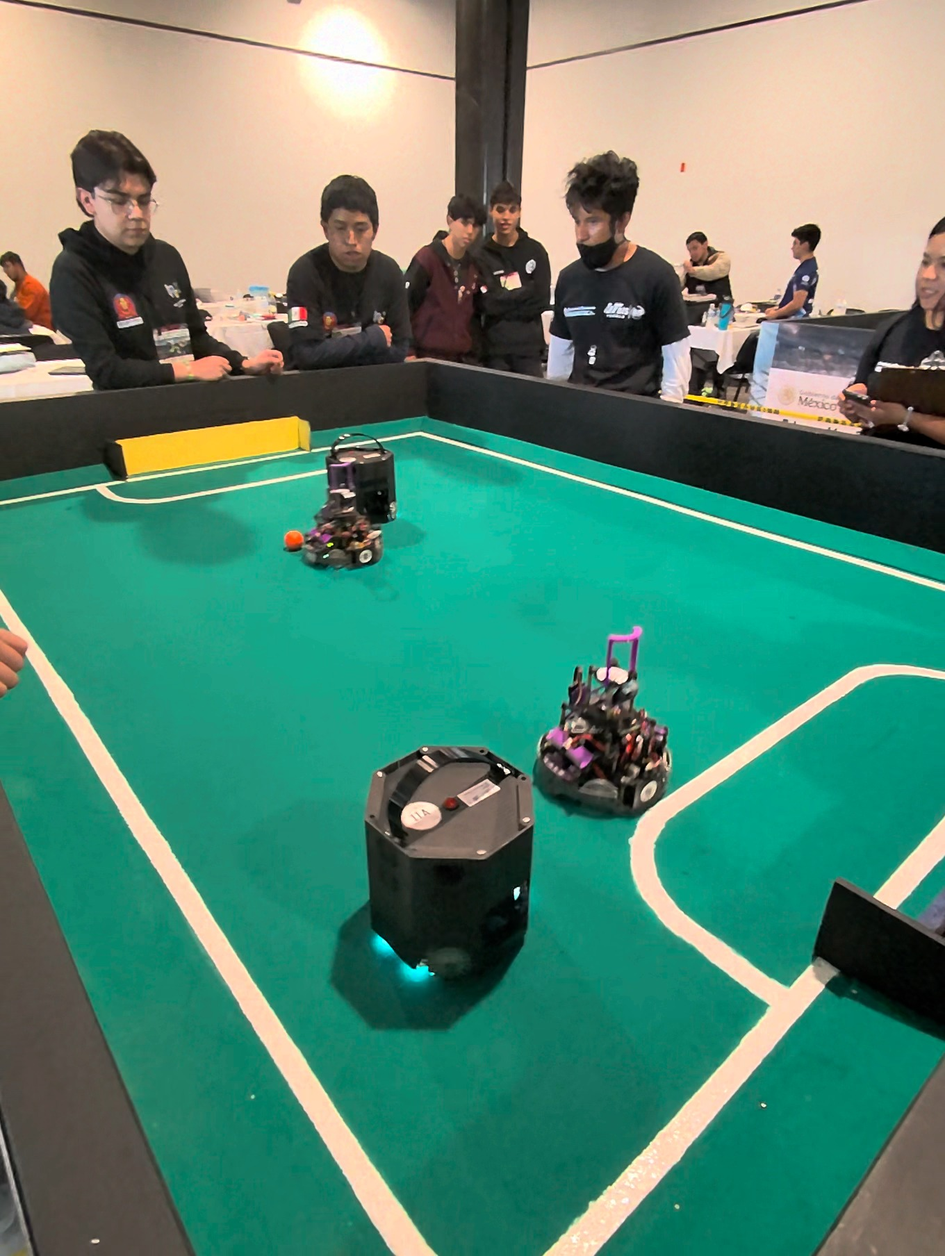Robot: (359, 719, 538, 1033), (540, 634, 674, 826), (318, 422, 396, 517), (317, 476, 387, 575)
pelota: (280, 531, 301, 553)
